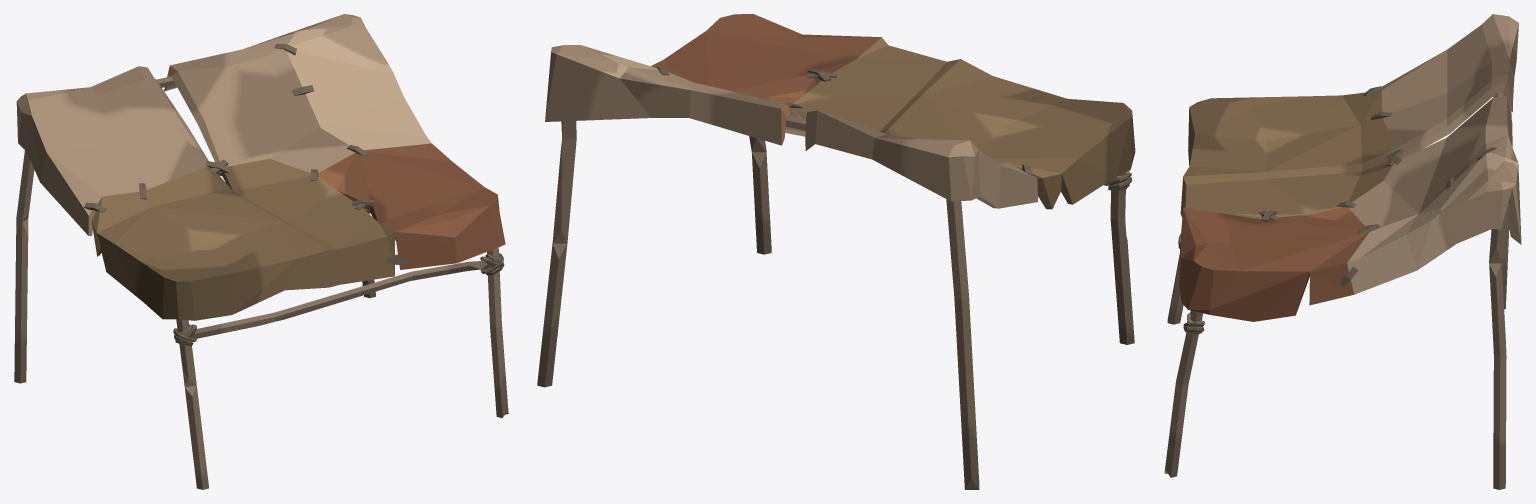
Rendered from SM_Bld_Tent_01.fbx.
The picture shows the model from 3 angles, left to right: view 1: azimuth 30°, elevation 25°; view 2: azimuth 150°, elevation 25°; view 3: azimuth 270°, elevation 25°; orthographic projection. The views are drawn at different scales.
Parts seen in each view (by area): view 1: SM_Bld_Tent_01; view 2: SM_Bld_Tent_01; view 3: SM_Bld_Tent_01.
Boxes of the visible parts, x1,y1,x2,y2 form: SM_Bld_Tent_01: (14,14,508,489); SM_Bld_Tent_01: (537,14,1135,489); SM_Bld_Tent_01: (1164,14,1521,489).
Bounding box in the file's own units: 399 × 297 × 324.
